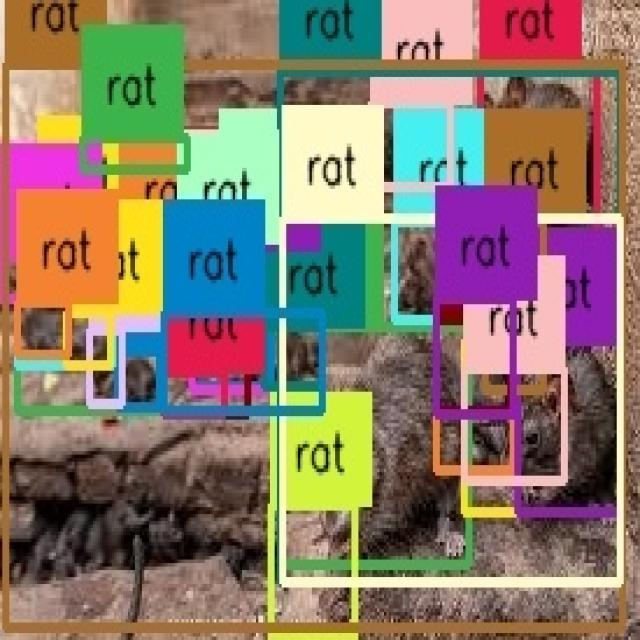rat: (6, 66, 622, 630), (282, 72, 619, 582), (282, 220, 619, 584), (282, 329, 468, 563), (466, 339, 619, 511), (480, 70, 598, 245), (519, 339, 619, 511), (164, 314, 322, 412), (18, 302, 160, 411), (463, 367, 566, 479), (436, 322, 514, 468), (272, 504, 354, 636), (486, 224, 544, 388), (192, 315, 322, 388), (436, 297, 514, 413), (119, 238, 254, 294), (436, 322, 511, 412), (370, 103, 449, 187), (396, 222, 463, 320), (19, 304, 114, 367), (192, 315, 271, 388), (90, 330, 160, 411), (119, 242, 216, 290), (40, 229, 107, 282), (263, 327, 323, 386), (164, 370, 248, 412), (82, 138, 188, 170), (120, 243, 183, 289), (19, 302, 70, 355), (163, 372, 226, 414), (65, 311, 112, 367), (220, 222, 255, 296), (118, 350, 160, 409), (91, 330, 123, 404), (177, 241, 219, 287), (40, 231, 79, 276), (221, 248, 254, 298), (0, 255, 23, 297)
